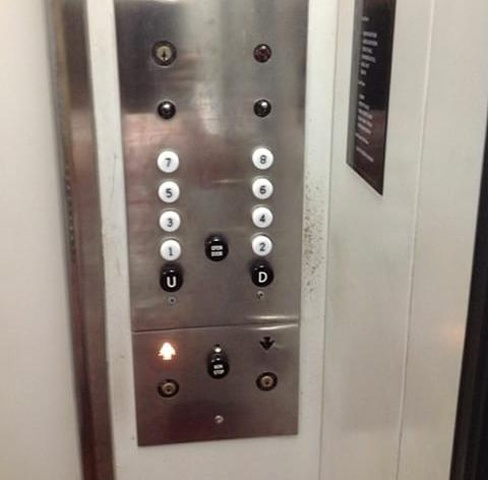1: (157, 236, 182, 261)
2: (250, 233, 273, 256)
3: (158, 209, 181, 232)
4: (252, 205, 274, 229)
5: (157, 179, 180, 204)
6: (251, 177, 273, 199)
7: (155, 148, 181, 173)
8: (250, 146, 274, 170)
D: (249, 262, 274, 287)
U: (158, 266, 183, 293)
down: (256, 333, 275, 352)
indicator: (250, 42, 272, 64), (155, 99, 178, 120), (254, 98, 272, 119)
keyhole: (150, 40, 178, 67), (158, 378, 180, 399), (255, 371, 278, 391)
text: (205, 346, 231, 379), (205, 234, 229, 261)
up: (156, 340, 177, 362)
